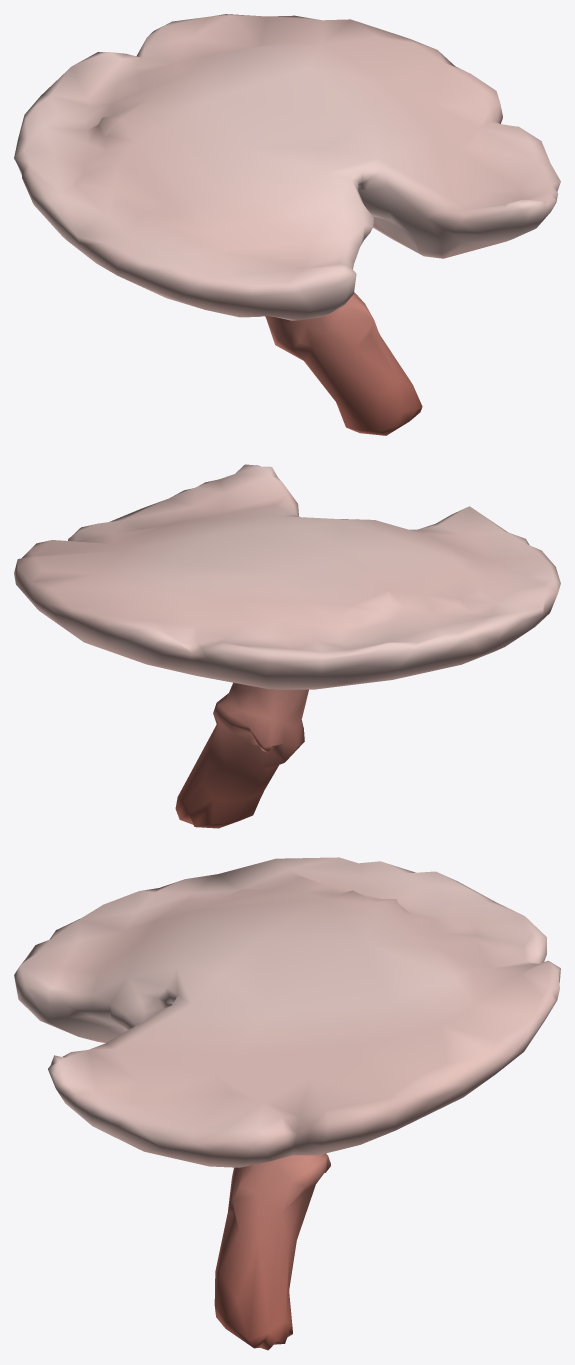
File: Mushroom4.fbx
The picture shows the model from 3 angles, top to bottom: view 1: azimuth 30°, elevation 25°; view 2: azimuth 150°, elevation 25°; view 3: azimuth 270°, elevation 25°; orthographic projection. The views are drawn at different scales.
Parts seen in each view (by area): view 1: mushroom_11; view 2: mushroom_11; view 3: mushroom_11.
Boxes of the visible parts, x1,y1,x2,y2 form: mushroom_11: (14,14,560,435); mushroom_11: (14,464,560,828); mushroom_11: (14,857,560,1350).
Bounding box in the file's own units: 98.94 × 63.16 × 93.36.
